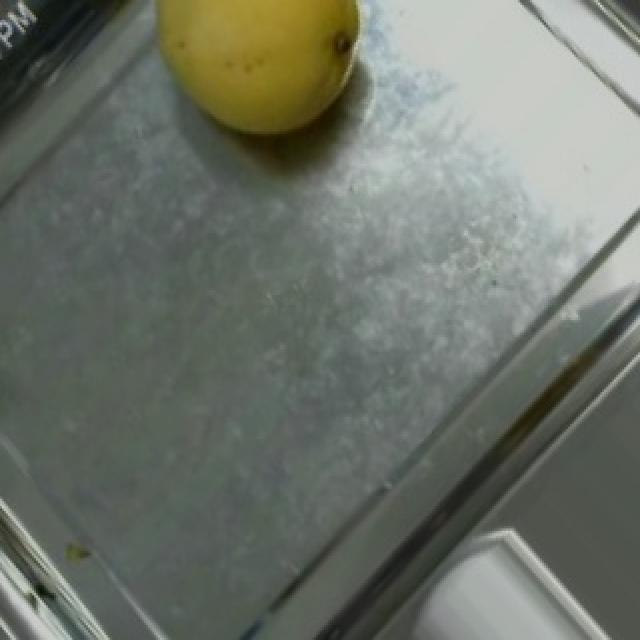fruit: (104, 0, 404, 198)
